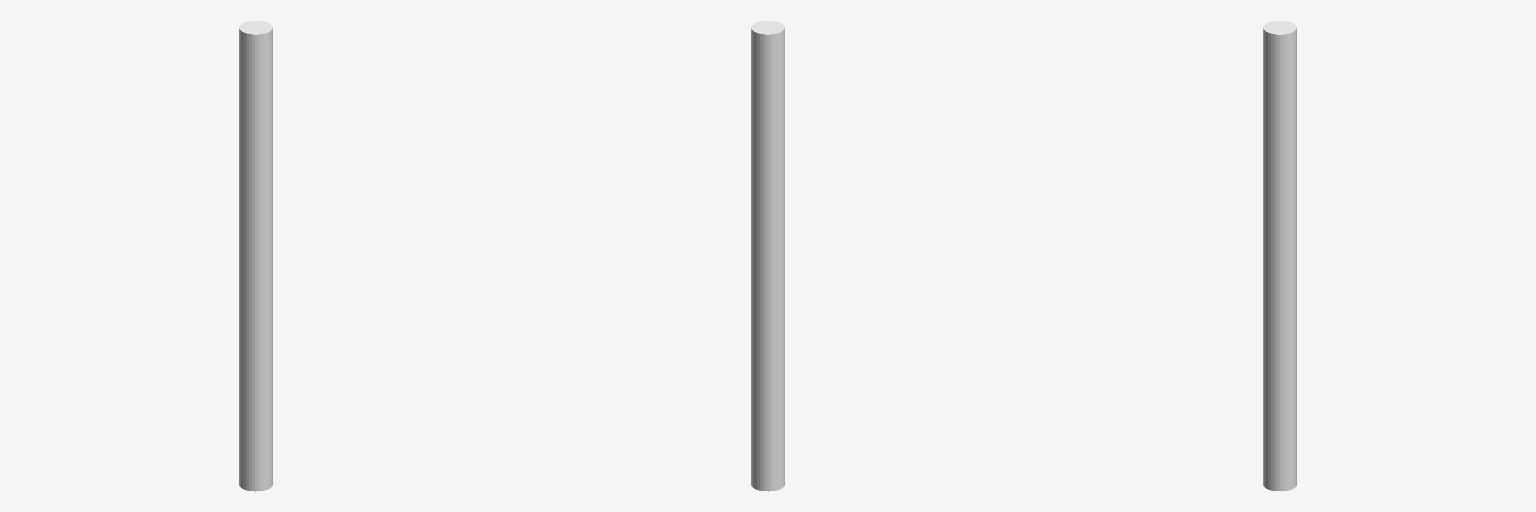
URDF robot description (rope):
<?xml version="1.0" ?>
<robot name="rope">
  <!-- Define the material for the rope (you can customize this) -->
  <material name="rope_color">
    <color rgba="1. 1. 1. 1." />
  </material>

  <!-- Define the link properties (cylinders) -->
  <link name="link_1">
    <visual>
      <geometry>
        <cylinder length="0.1" radius="0.005" />
      </geometry>
      <material name="rope_color" />
    </visual>
    <collision>
      <geometry>
        <cylinder length="0.1" radius="0.005" />
      </geometry>
    </collision>
  </link>

  <joint name="joint_1" type="revolute">
    <origin rpy="0 0 0" xyz="0 0 0.05" />
    <parent link="link_1" />
    <child link="link_2" />
    <axis xyz="0 0 1" />
    <limit lower="-3.1416" upper="3.1416" effort="1" velocity="10" />
  </joint>

  <link name="link_2">
    <visual>
      <geometry>
        <cylinder length="0.1" radius="0.005" />
      </geometry>
      <material name="rope_color" />
    </visual>
    <collision>
      <geometry>
        <cylinder length="0.1" radius="0.005" />
      </geometry>
    </collision>
  </link>

  <!-- Add more links and joints to extend the rope as needed -->
</robot>

--- Facts derived from the render (not from the file) ---
Views: 3 orthographic renders of the robot side by side, from view 1: azimuth 30°, elevation 25°; view 2: azimuth 150°, elevation 25°; view 3: azimuth 270°, elevation 25°.
Robot: rope — 2 links, 1 joints (1 revolute); root link link_1; default pose: all joints at 0.
Links seen in each view (by area): view 1: link_2, link_1; view 2: link_1, link_2; view 3: link_2, link_1.
Link boxes in pixels (x1,y1,x2,y2): link_2: (239,20,272,338); link_1: (239,182,272,491); link_1: (751,181,784,491); link_2: (751,20,784,338); link_2: (1263,21,1296,338); link_1: (1263,181,1296,490).
Size in the robot's own frame: 0.01 by 0.01 by 0.15 metres.
Geometry: primitives only (box / cylinder / sphere), no mesh files.